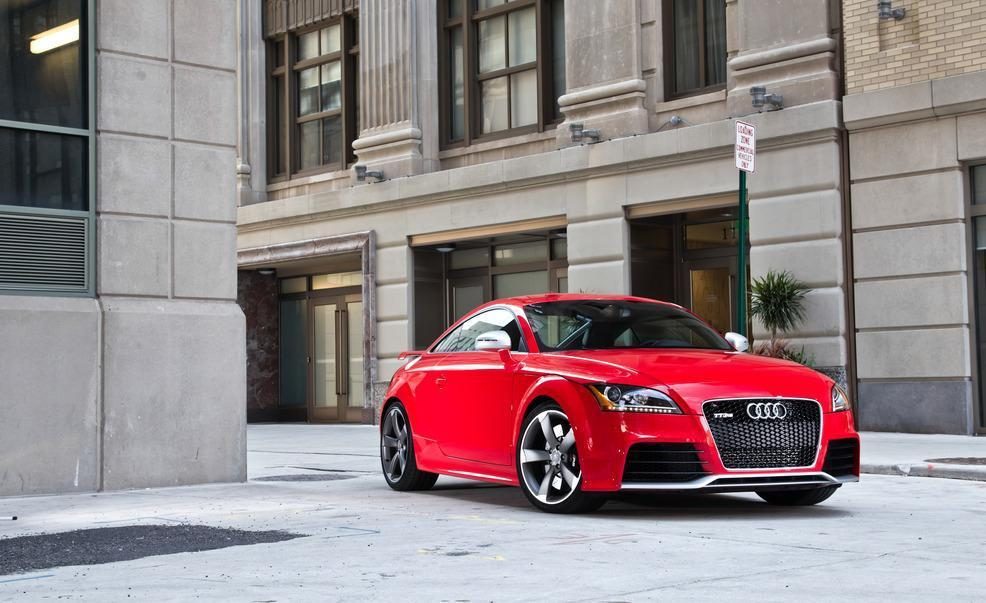Audi: (738, 394, 793, 428)
